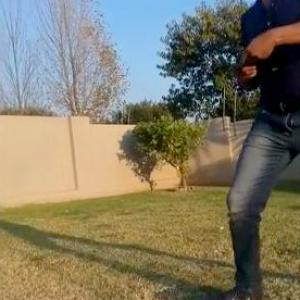follow: (203, 0, 300, 299)
